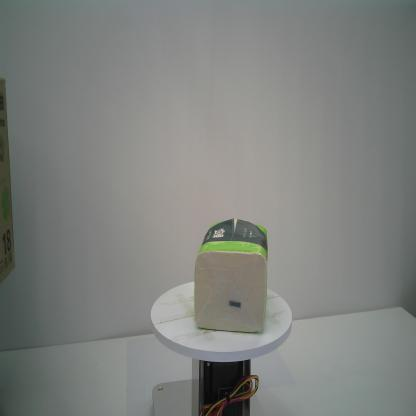Tissue: (193, 217, 270, 335)
